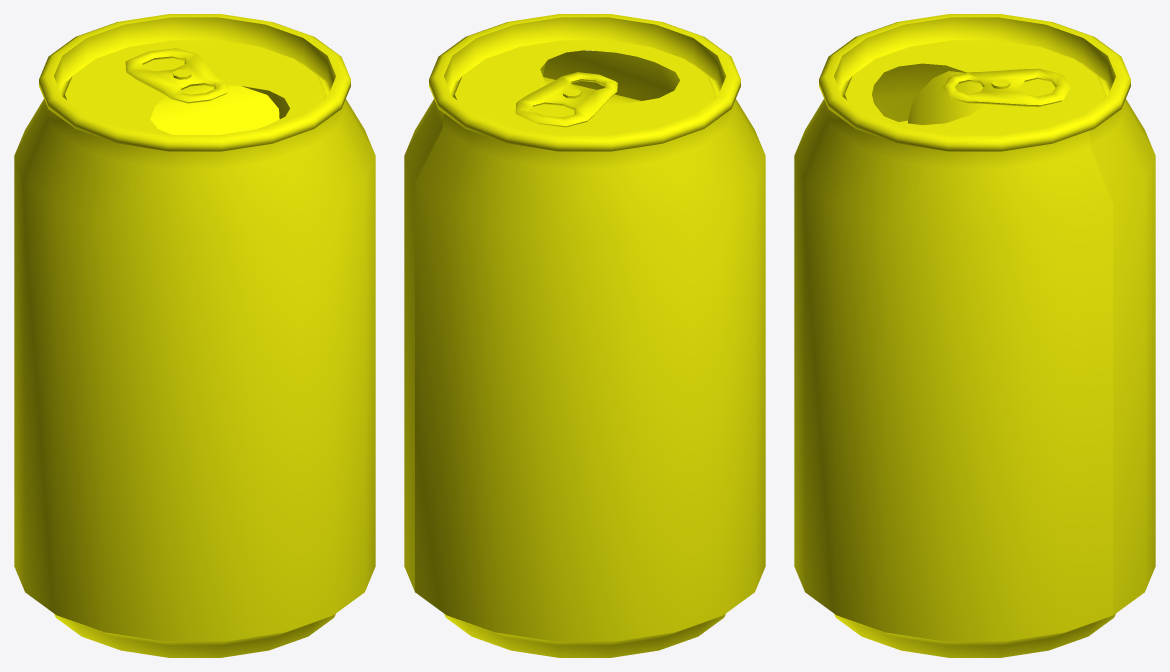
3 views of the same model, side by side, from view 1: azimuth 30°, elevation 25°; view 2: azimuth 150°, elevation 25°; view 3: azimuth 270°, elevation 25° (orthographic).
Visible parts, largest first — view 1: soda_open; view 2: soda_open; view 3: soda_open.
Boxes of the visible parts, bbox=[...] form: soda_open: bbox=[14, 14, 375, 657]; soda_open: bbox=[404, 14, 765, 657]; soda_open: bbox=[794, 14, 1155, 657].
Size of the model in its own units: 0.0798 by 0.1286 by 0.081.
Materials: 1 (1 with a texture image).
